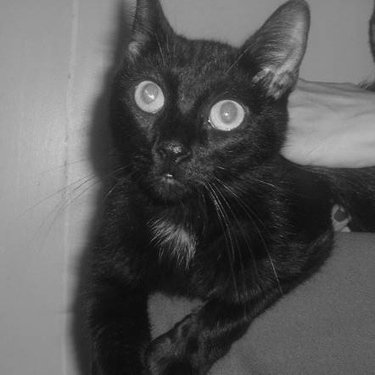cat: (42, 1, 363, 357)
